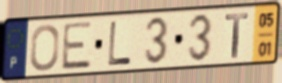3: (143, 14, 171, 67), (187, 12, 215, 64)
E: (60, 20, 95, 72)
L: (106, 20, 132, 67)
O: (28, 23, 61, 73)
T: (224, 11, 250, 60)
